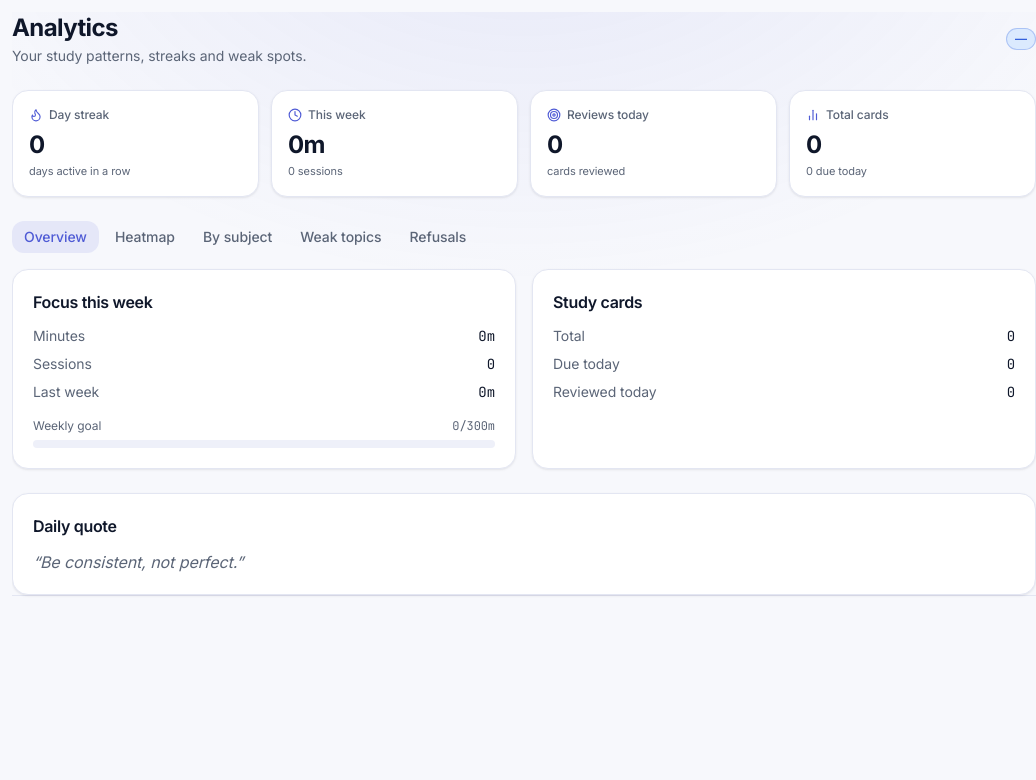
Scenario: the Refusals tab › says so plainly when nothing has been asked yet
This screenshot has width=1036, height=780.
Click the tab "Refusals" at (438, 236), box [398, 220, 478, 252]
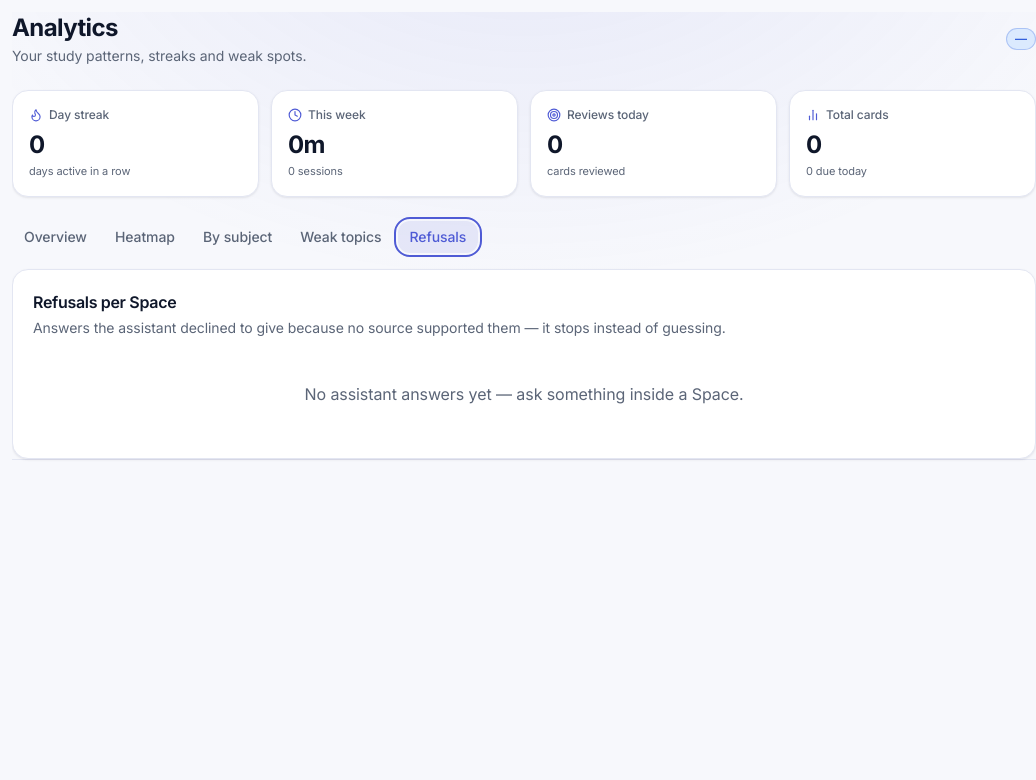
Check: the text "No assistant answers yet — ask something inside a Space." is shown, box [304, 384, 744, 404]
